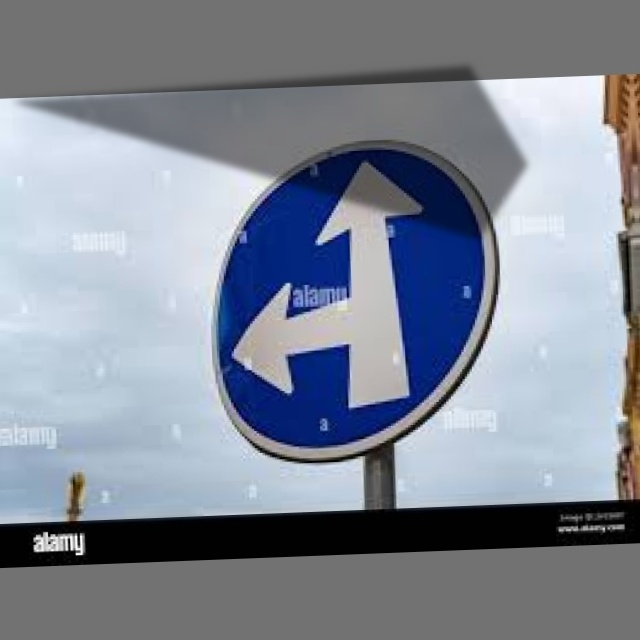Compulsory_Ahead_or_Turn_Left: (213, 138, 501, 458)
